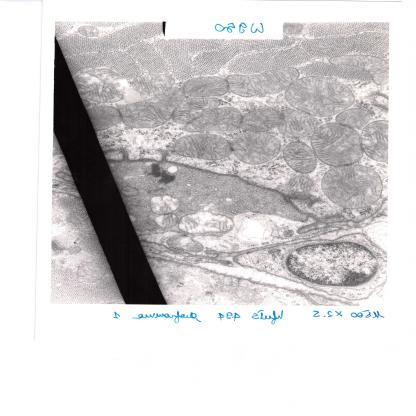mitochondria: (284, 76, 354, 118), (321, 164, 382, 210), (118, 88, 185, 128), (310, 122, 364, 167), (228, 65, 300, 98), (328, 53, 389, 84), (229, 132, 281, 164), (178, 107, 242, 133), (172, 134, 232, 160), (168, 97, 222, 125), (276, 111, 321, 140), (281, 141, 320, 174), (183, 74, 229, 99), (179, 214, 235, 234), (131, 72, 175, 97), (240, 108, 282, 134), (333, 107, 372, 129), (283, 178, 317, 198), (148, 196, 181, 213), (152, 214, 180, 229), (79, 24, 100, 39)
